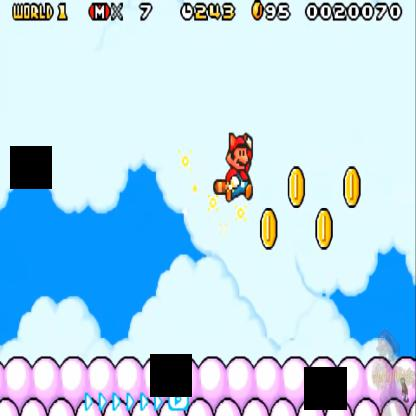Mario: (209, 129, 256, 206)
moneda: (286, 165, 308, 208), (342, 163, 363, 207), (315, 204, 334, 252), (258, 207, 280, 246)
